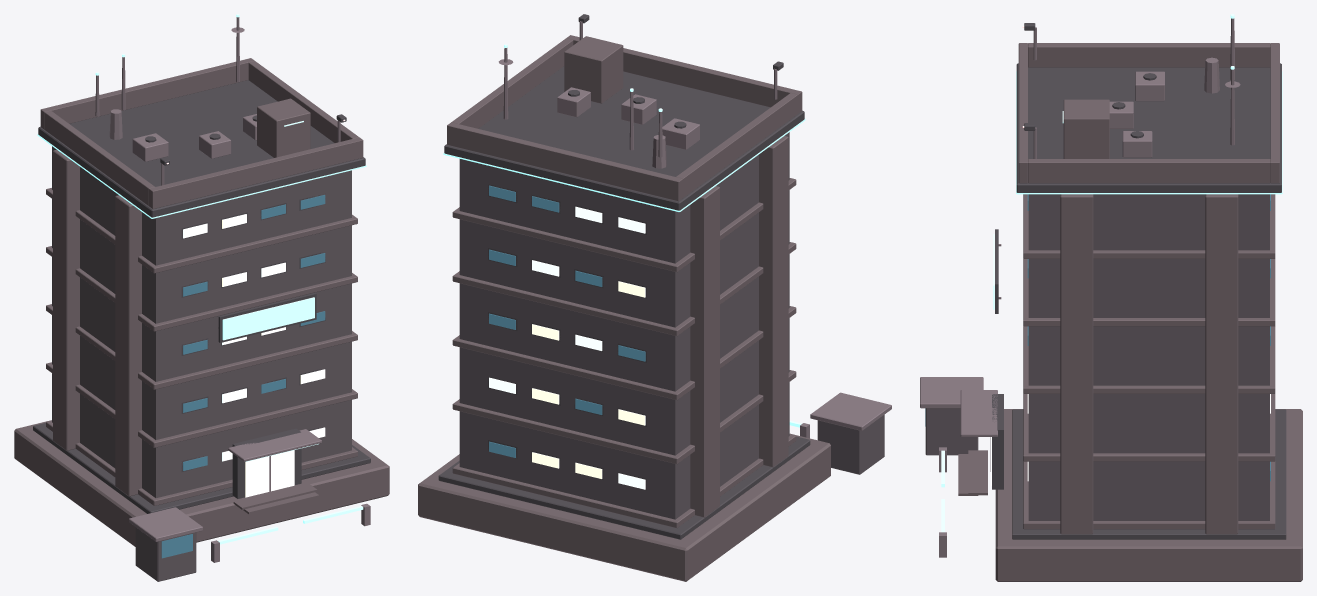
File: security_command.glb
The picture shows the model from 3 angles, left to right: view 1: azimuth 30°, elevation 25°; view 2: azimuth 150°, elevation 25°; view 3: azimuth 270°, elevation 25°; orthographic projection. The views are drawn at different scales.
Parts seen in each view (by area): view 1: security_command_Graphite@hardened, security_command_Concrete@hardened, security_command_DarkAlloy@hardened, security_command_Steel@hardened, security_command_Cyan, security_command_BlackGlass, security_command_WarmGlass, security_command_CoolGlass, security_command_Teal; view 2: security_command_Graphite@hardened, security_command_Concrete@hardened, security_command_DarkAlloy@hardened, security_command_Steel@hardened, security_command_BlackGlass, security_command_WarmGlass, security_command_CoolGlass, security_command_Teal; view 3: security_command_Concrete@hardened, security_command_Graphite@hardened, security_command_DarkAlloy@hardened, security_command_Steel@hardened, security_command_Teal, security_command_Cyan.
Part boxes in pixels (left/top/right/bottom): security_command_Graphite@hardened: left=52, top=146, right=351, bottom=581; security_command_Concrete@hardened: left=14, top=58, right=389, bottom=546; security_command_DarkAlloy@hardened: left=33, top=80, right=370, bottom=513; security_command_Steel@hardened: left=95, top=17, right=370, bottom=562; security_command_Cyan: left=95, top=14, right=363, bottom=544; security_command_BlackGlass: left=161, top=195, right=325, bottom=558; security_command_WarmGlass: left=222, top=214, right=325, bottom=497; security_command_CoolGlass: left=183, top=223, right=325, bottom=461; security_command_Teal: left=37, top=134, right=366, bottom=218; security_command_Graphite@hardened: left=459, top=132, right=884, bottom=519; security_command_Concrete@hardened: left=418, top=35, right=830, bottom=581; security_command_DarkAlloy@hardened: left=438, top=14, right=810, bottom=539; security_command_Steel@hardened: left=498, top=21, right=891, bottom=438; security_command_BlackGlass: left=489, top=185, right=645, bottom=457; security_command_WarmGlass: left=532, top=281, right=645, bottom=478; security_command_CoolGlass: left=489, top=206, right=645, bottom=489; security_command_Teal: left=443, top=118, right=805, bottom=211; security_command_Concrete@hardened: left=958, top=43, right=1302, bottom=581; security_command_Graphite@hardened: left=925, top=194, right=1269, bottom=520; security_command_DarkAlloy@hardened: left=992, top=23, right=1286, bottom=539; security_command_Steel@hardened: left=920, top=18, right=1240, bottom=557; security_command_Teal: left=1016, top=71, right=1282, bottom=194; security_command_Cyan: left=941, top=14, right=1234, bottom=532.
Bounding box in the file's own units: 16.35 × 24.52 × 17.45.
